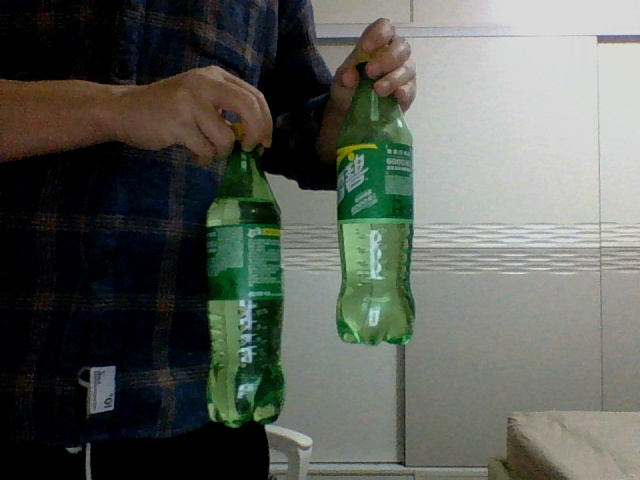Sprite: (203, 124, 284, 428), (335, 51, 416, 344)
